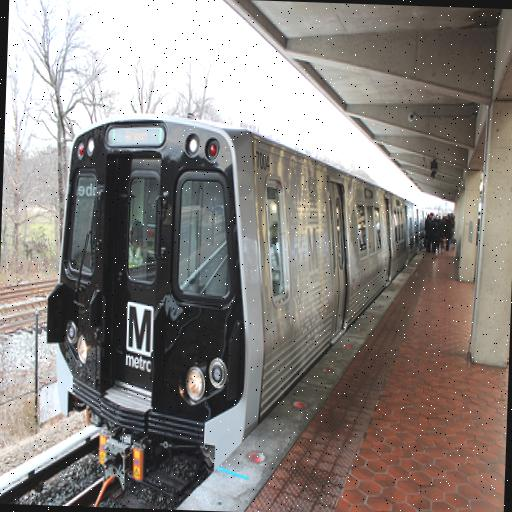platform_edge: (172, 295, 405, 512)
